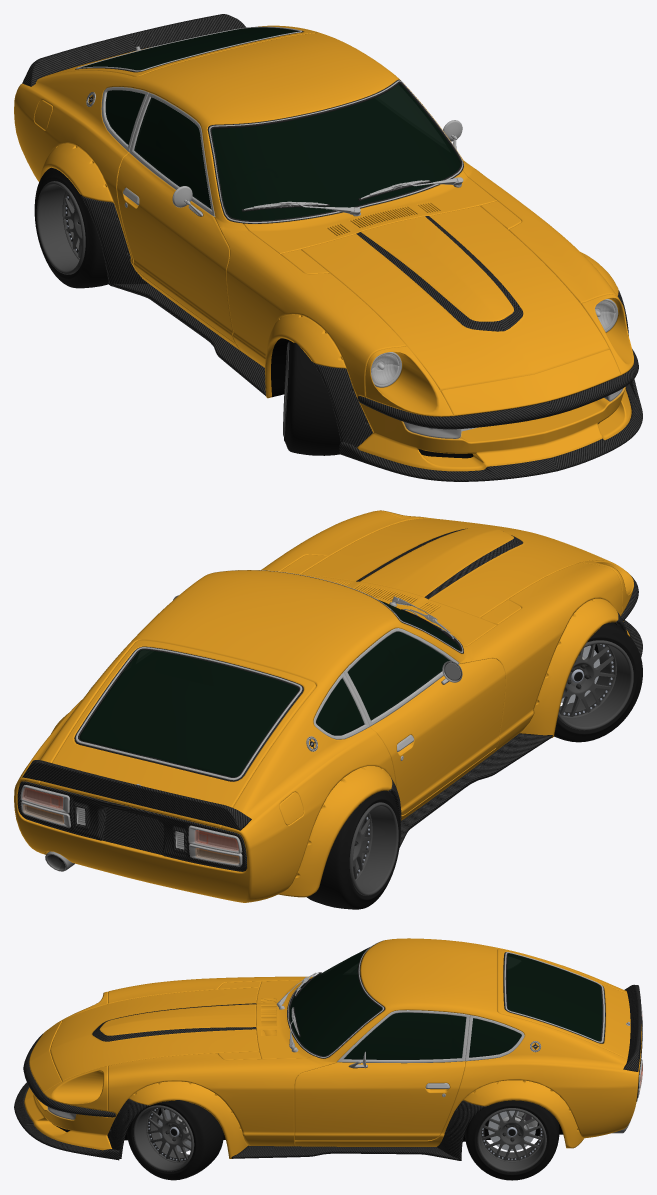
Rendered from datsun-280z.glb.
The picture shows the model from 3 angles, top to bottom: view 1: azimuth 30°, elevation 25°; view 2: azimuth 150°, elevation 25°; view 3: azimuth 270°, elevation 25°; orthographic projection. The views are drawn at different scales.
Visible parts, largest first — view 1: Object_3, Object_6, Object_5, Object_18, Object_9, Object_17, Object_7, Object_8, Object_10, Object_12; view 2: Object_3, Object_6, Object_5, Object_9, Object_18, Object_15, Object_17, Object_7, Object_8, Object_2, Object_11; view 3: Object_3, Object_6, Object_5, Object_18, Object_9, Object_14, Object_16, Object_7, Object_13.
Boxes of the visible parts, box(x1,y1,x2,y2) form: Object_3: box(14, 25, 633, 471); Object_6: box(80, 27, 460, 220); Object_5: box(22, 14, 642, 481); Object_18: box(34, 167, 344, 455); Object_9: box(76, 26, 463, 223); Object_17: box(36, 181, 85, 274); Object_7: box(75, 27, 463, 223); Object_8: box(371, 301, 624, 439); Object_10: box(371, 299, 618, 387); Object_12: box(271, 211, 599, 458); Object_3: box(14, 510, 633, 902); Object_6: box(79, 600, 460, 777); Object_5: box(17, 528, 642, 871); Object_9: box(20, 570, 463, 866); Object_18: box(306, 622, 642, 909); Object_15: box(558, 640, 633, 730); Object_17: box(349, 802, 398, 895); Object_7: box(74, 570, 463, 781); Object_8: box(22, 788, 239, 863); Object_2: box(24, 787, 238, 850); Object_11: box(24, 804, 239, 863); Object_3: box(24, 938, 641, 1158); Object_6: box(290, 948, 602, 1059); Object_5: box(14, 984, 642, 1160); Object_18: box(127, 1100, 559, 1180); Object_9: box(276, 940, 642, 1097); Object_14: box(133, 1105, 194, 1171); Object_16: box(477, 1108, 546, 1172); Object_7: box(287, 942, 605, 1068); Object_13: box(158, 1109, 537, 1151).
Bounding box in the file's own units: 1.71 × 1.03 × 3.62.
15 materials, 5 textured.
